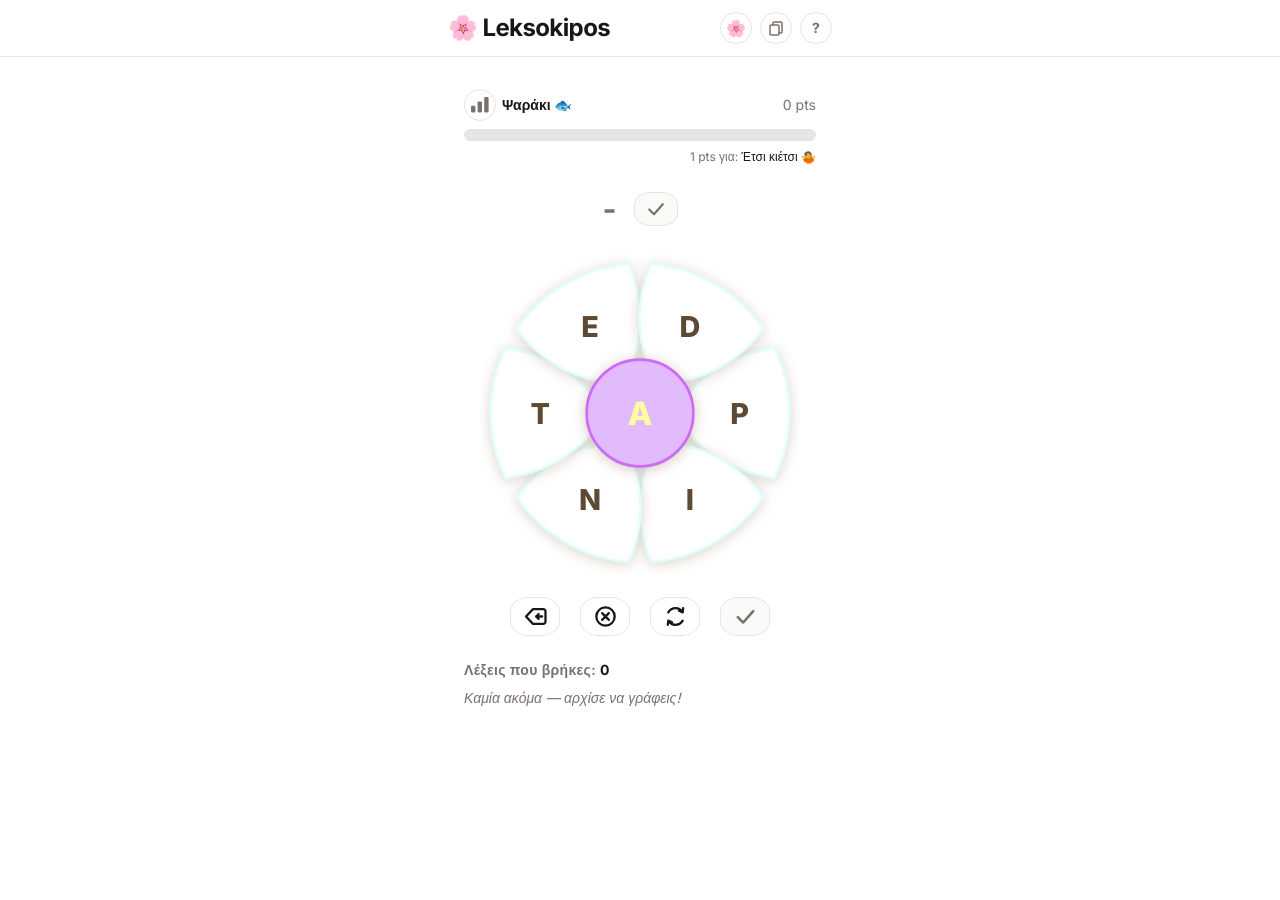
LeksokiposLayout — variant toggle › clicking toggle switches to flower — shows 🥧 (switch back to pie)
Click the button named "Εναλλαγή σε Λουλούδι". click: (736,28)
box: [720, 12, 752, 44]
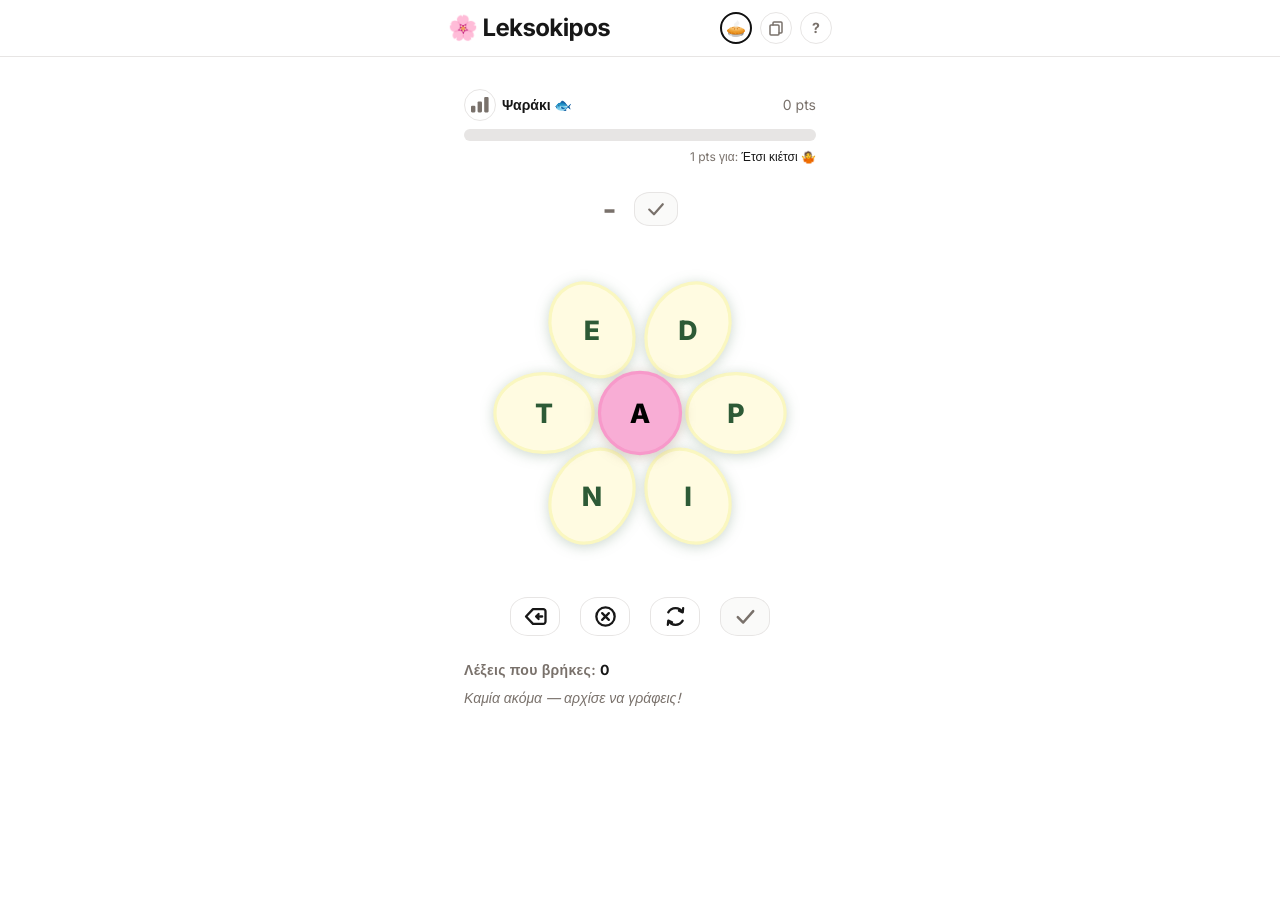
Result: the button named "Εναλλαγή σε Τάρτα" reads "🥧" at [720, 12, 752, 44]
